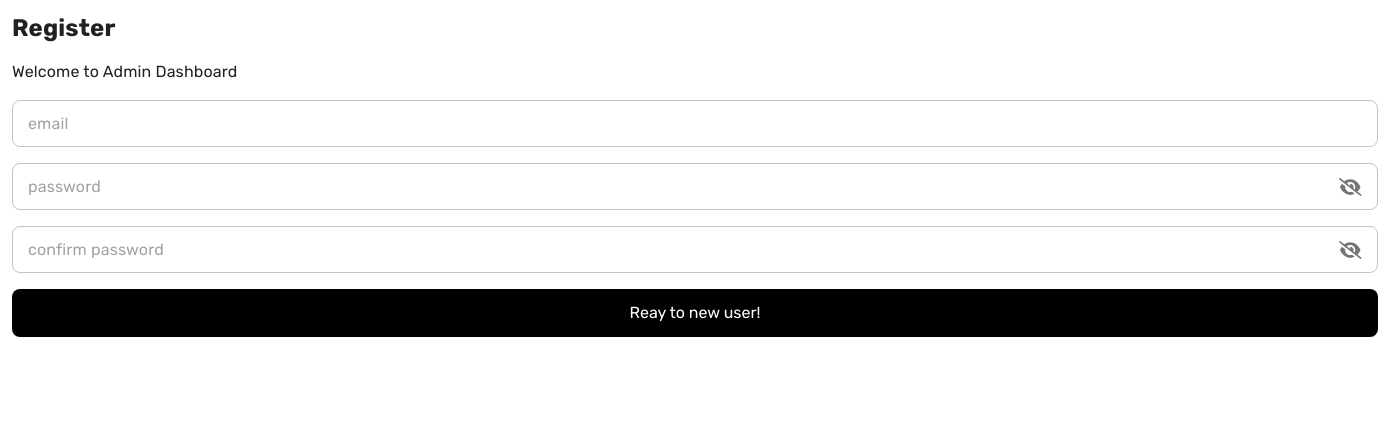
Test: RegisterFormSection › should display validation errors when submitting without required fields
Click the button with test id "register-btn". click: (695, 313)
box: [12,289,1378,337]
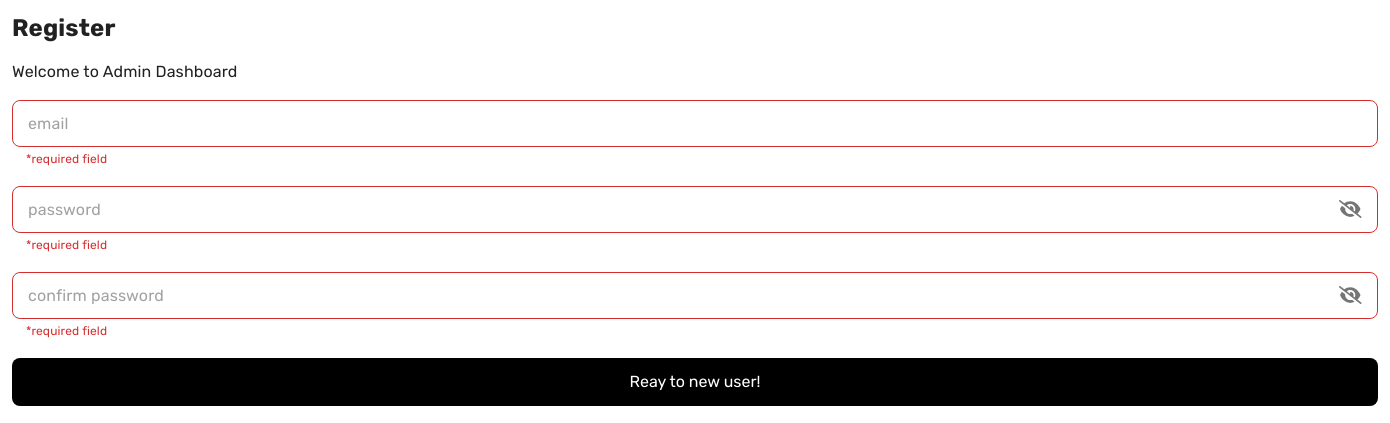
Now the text "*required field" is shown 3 times, box [26,152,107,166]; [26,238,107,252]; [26,324,107,338]
